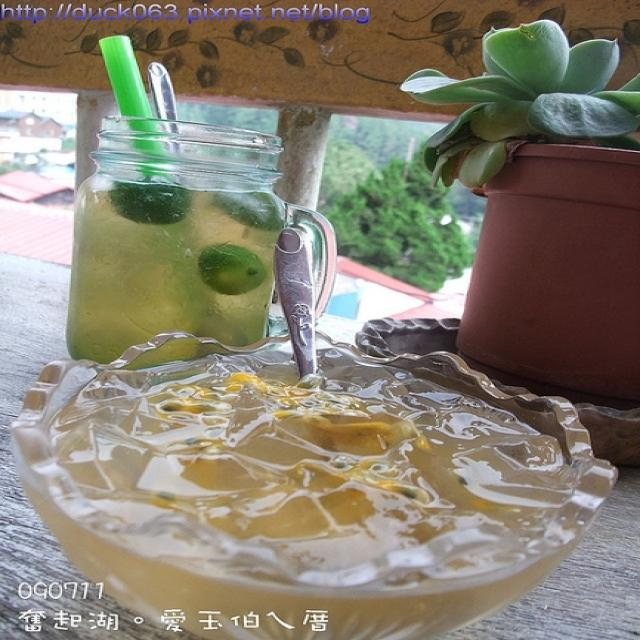蛋糕甜品: (19, 312, 599, 616)
